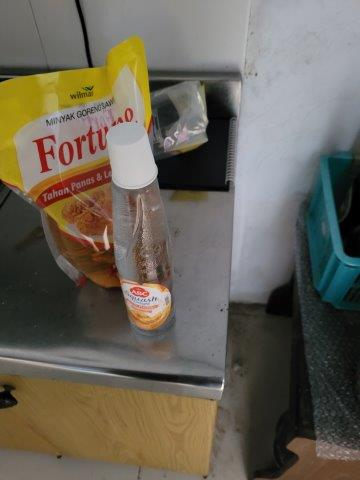botolkaca: (105, 128, 177, 331)
